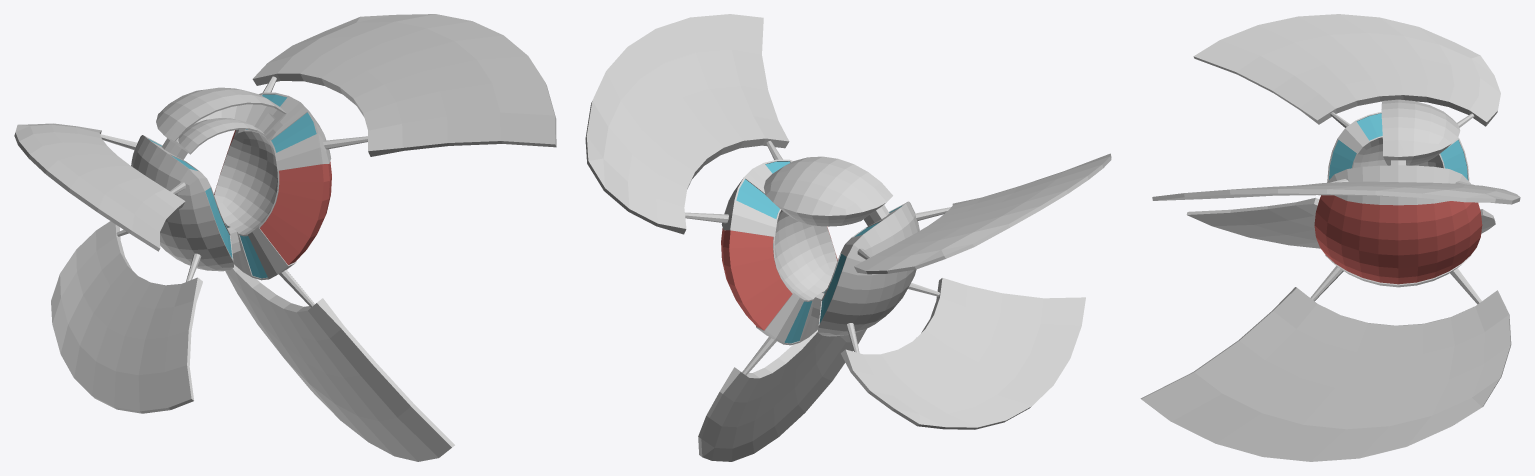
File: motherShip3.fbx
The picture shows the model from 3 angles, left to right: view 1: azimuth 30°, elevation 25°; view 2: azimuth 150°, elevation 25°; view 3: azimuth 270°, elevation 25°; orthographic projection. The views are drawn at different scales.
Parts seen in each view (by area): view 1: Wings, Dock, ForceField, Windows; view 2: Wings, Dock, ForceField, Windows; view 3: Wings, ForceField, Dock, Windows.
Boxes of the visible parts, box(x1,y1,x2,y2) form: Wings: box(14, 14, 556, 461); Dock: box(131, 87, 331, 280); ForceField: box(214, 130, 331, 265); Windows: box(149, 94, 316, 278); Wings: box(585, 14, 1111, 461); Dock: box(721, 156, 919, 345); ForceField: box(721, 226, 837, 330); Windows: box(736, 161, 902, 343); Wings: box(1140, 14, 1520, 461); ForceField: box(1314, 195, 1482, 284); Dock: box(1325, 99, 1471, 287); Windows: box(1329, 113, 1467, 179).
Size of the model in its own units: 54.74 by 42.16 by 43.05.
